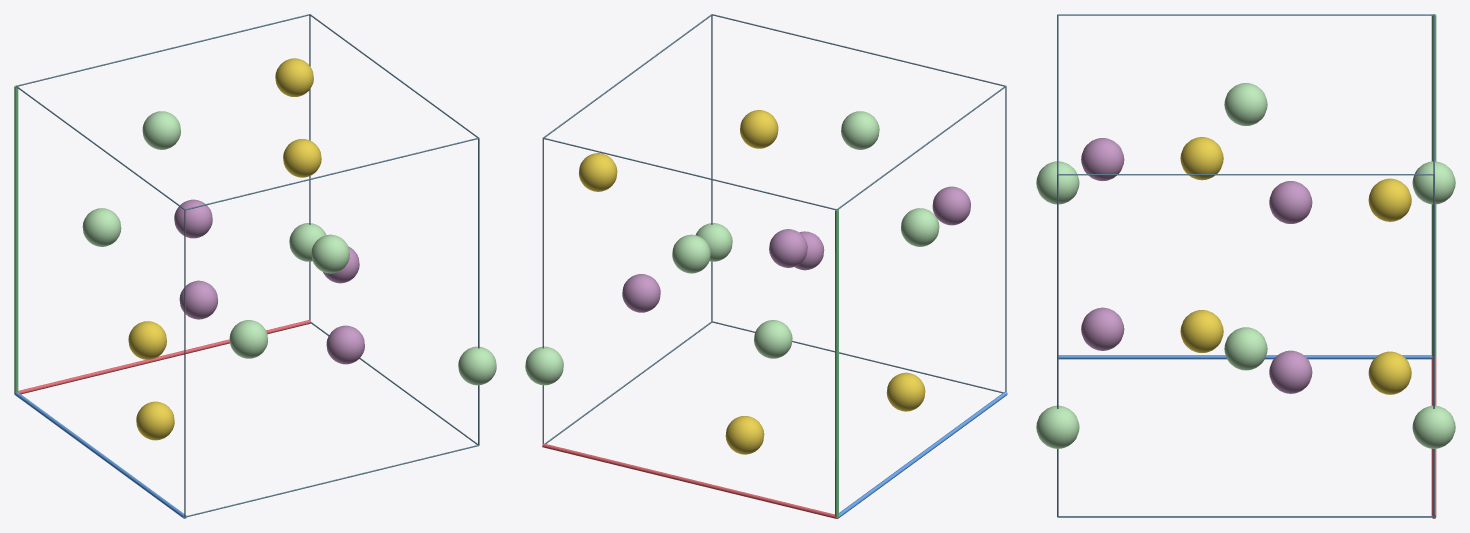
Rendered from cobaltite.glb.
The picture shows the model from 3 angles, left to right: view 1: azimuth 30°, elevation 25°; view 2: azimuth 150°, elevation 25°; view 3: azimuth 270°, elevation 25°; orthographic projection. The views are drawn at different scales.
Parts seen in each view (by area): view 1: Ô mạng và các trục a, b, c, Co · Co · 1 (×6), S · S · 1 (×4), As · As · 1 (×4); view 2: Ô mạng và các trục a, b, c, Co · Co · 1 (×6), S · S · 1 (×4), As · As · 1 (×4); view 3: Co · Co · 1 (×6), Ô mạng và các trục a, b, c, S · S · 1 (×4), As · As · 1 (×4).
Boxes of the visible parts, <box> form: Ô mạng và các trục a, b, c: <box>14,14,479,518</box>; Co · Co · 1 (×6): <box>82,111,496,385</box>; S · S · 1 (×4): <box>128,58,321,440</box>; As · As · 1 (×4): <box>174,199,364,364</box>; Ô mạng và các trục a, b, c: <box>542,14,1007,518</box>; Co · Co · 1 (×6): <box>525,111,939,385</box>; S · S · 1 (×4): <box>578,110,925,454</box>; As · As · 1 (×4): <box>622,186,970,312</box>; Co · Co · 1 (×6): <box>1036,83,1455,448</box>; Ô mạng và các trục a, b, c: <box>1057,14,1436,518</box>; S · S · 1 (×4): <box>1180,137,1411,394</box>; As · As · 1 (×4): <box>1081,138,1312,393</box>.
Bounding box in the file's own units: 6.18 × 5.63 × 6.21.
